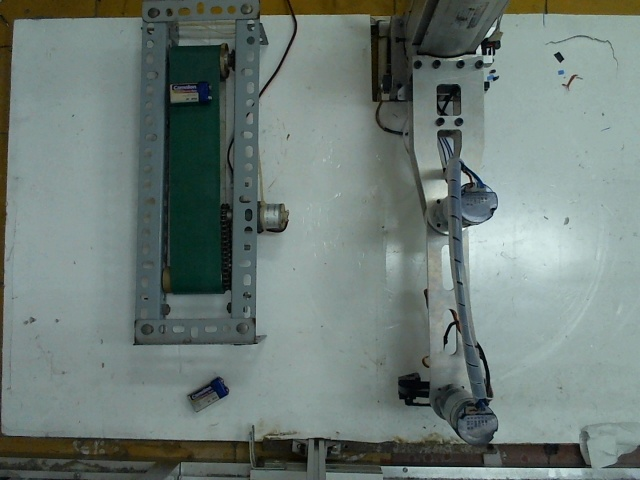battery: (166, 75, 213, 109), (187, 372, 229, 410)
